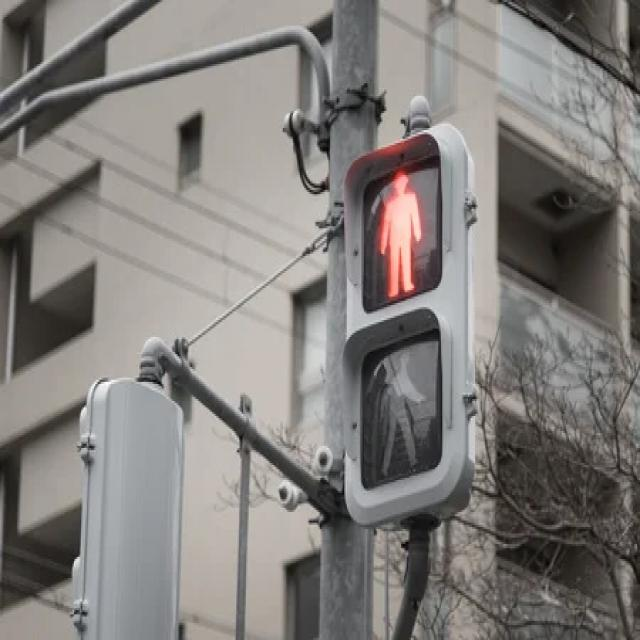Not go: (334, 130, 465, 528), (336, 156, 454, 312)
